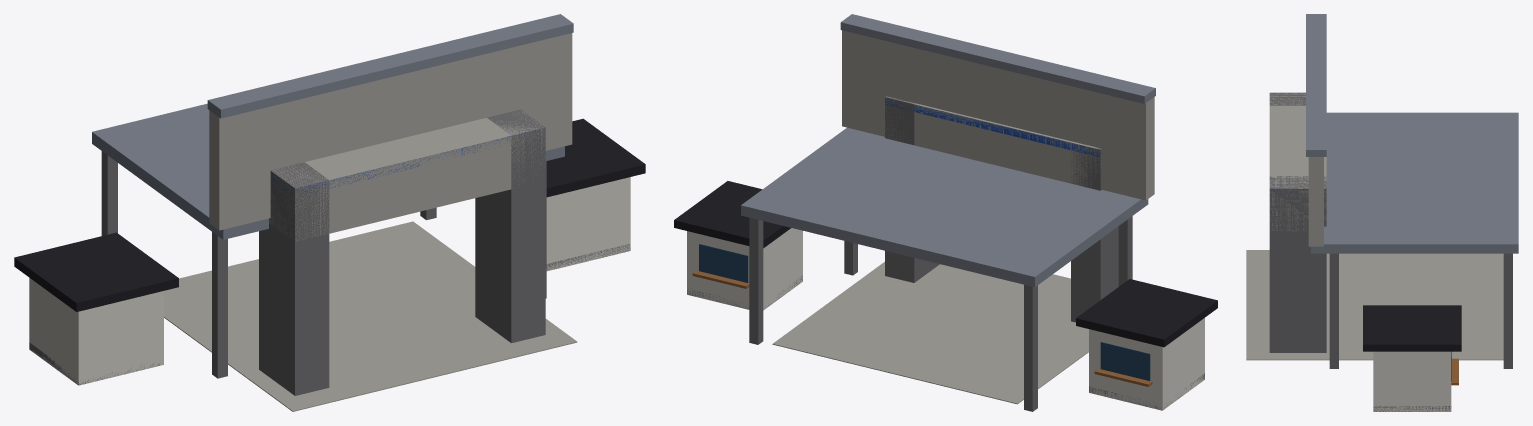
The model's file is Entrada.obj.
3 renders of one model, left to right at view 1: azimuth 30°, elevation 25°; view 2: azimuth 150°, elevation 25°; view 3: azimuth 270°, elevation 25°, orthographic. The views are drawn at different scales.
Parts seen in each view (by area): view 1: Entrada; view 2: Entrada; view 3: Entrada.
Part boxes in pixels (bbox=[...]): Entrada: bbox=[14, 14, 645, 411]; Entrada: bbox=[674, 14, 1217, 411]; Entrada: bbox=[1246, 14, 1518, 411].
Size of the model in its own units: 20 by 9.5 by 10.5.
1 material, 1 textured.
